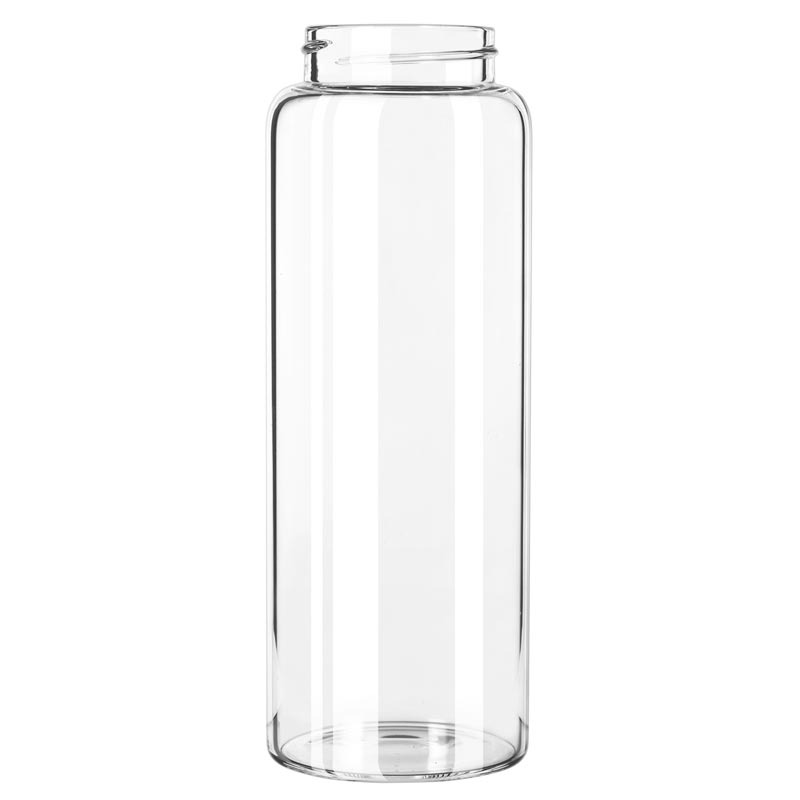container: (256, 12, 539, 787)
